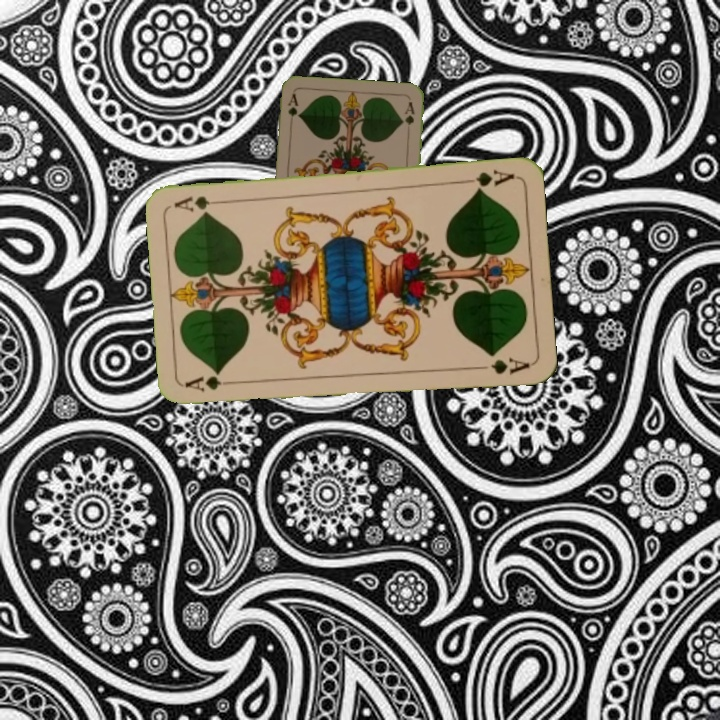GA: (458, 166, 517, 194), (182, 372, 242, 395), (284, 90, 300, 130)
